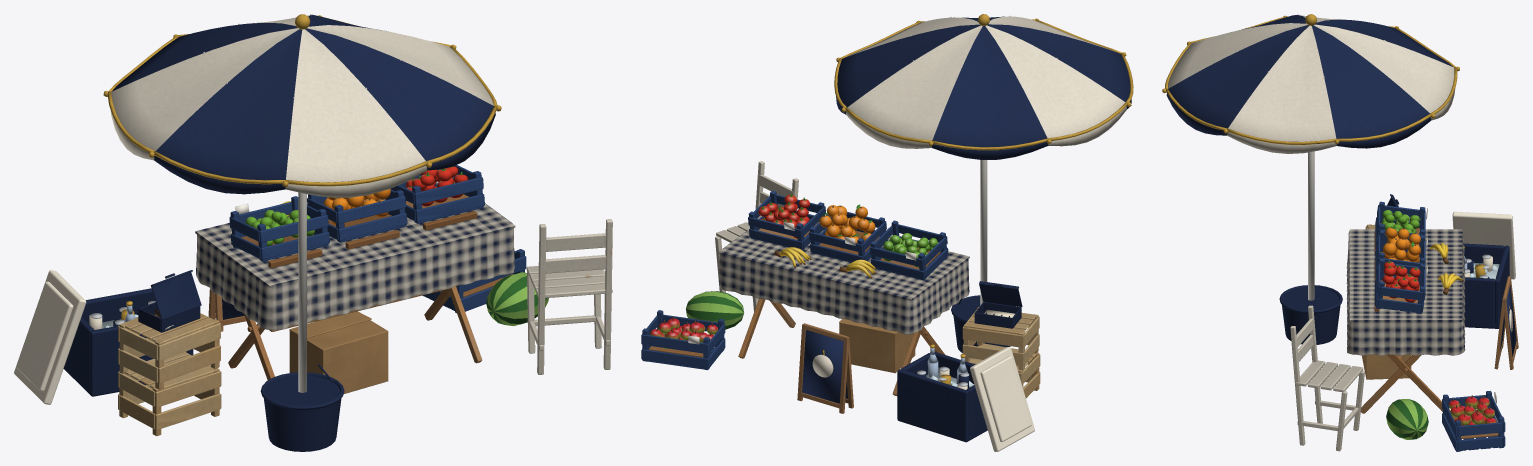
The model's file is Era0_Mesinha.fbx.
3 renders of one model, left to right at view 1: azimuth 30°, elevation 25°; view 2: azimuth 150°, elevation 25°; view 3: azimuth 270°, elevation 25°, orthographic. The views are drawn at different scales.
Visible parts, largest first — view 1: ERA0_Umbrella, ERA0_Table, ERA0_Produce, ERA0_Register, ERA0_Cooler, ERA0_Chair, ERA0_Sign; view 2: ERA0_Umbrella, ERA0_Table, ERA0_Produce, ERA0_Cooler, ERA0_Register, ERA0_Sign, ERA0_Chair; view 3: ERA0_Umbrella, ERA0_Table, ERA0_Produce, ERA0_Cooler, ERA0_Chair, ERA0_Sign.
Part boxes in pixels (x1,y1,x2,y2): ERA0_Umbrella: (103, 14, 501, 451); ERA0_Table: (195, 181, 515, 393); ERA0_Produce: (229, 165, 548, 326); ERA0_Register: (118, 270, 221, 436); ERA0_Cooler: (14, 270, 193, 404); ERA0_Chair: (526, 219, 612, 374); ERA0_Sign: (208, 289, 246, 331); ERA0_Umbrella: (834, 14, 1133, 352); ERA0_Table: (718, 229, 969, 395); ERA0_Produce: (641, 190, 948, 370); ERA0_Cooler: (897, 344, 1034, 451); ERA0_Register: (962, 281, 1040, 398); ERA0_Sign: (797, 323, 853, 413); ERA0_Chair: (715, 161, 798, 311); ERA0_Umbrella: (1162, 14, 1459, 344); ERA0_Table: (1346, 229, 1465, 413); ERA0_Produce: (1374, 201, 1505, 451); ERA0_Cooler: (1452, 211, 1515, 328); ERA0_Chair: (1290, 305, 1364, 451); ERA0_Sign: (1494, 276, 1518, 369).
Size of the model in its own units: 2.85 by 2.35 by 2.37.
1 material, 1 textured.
